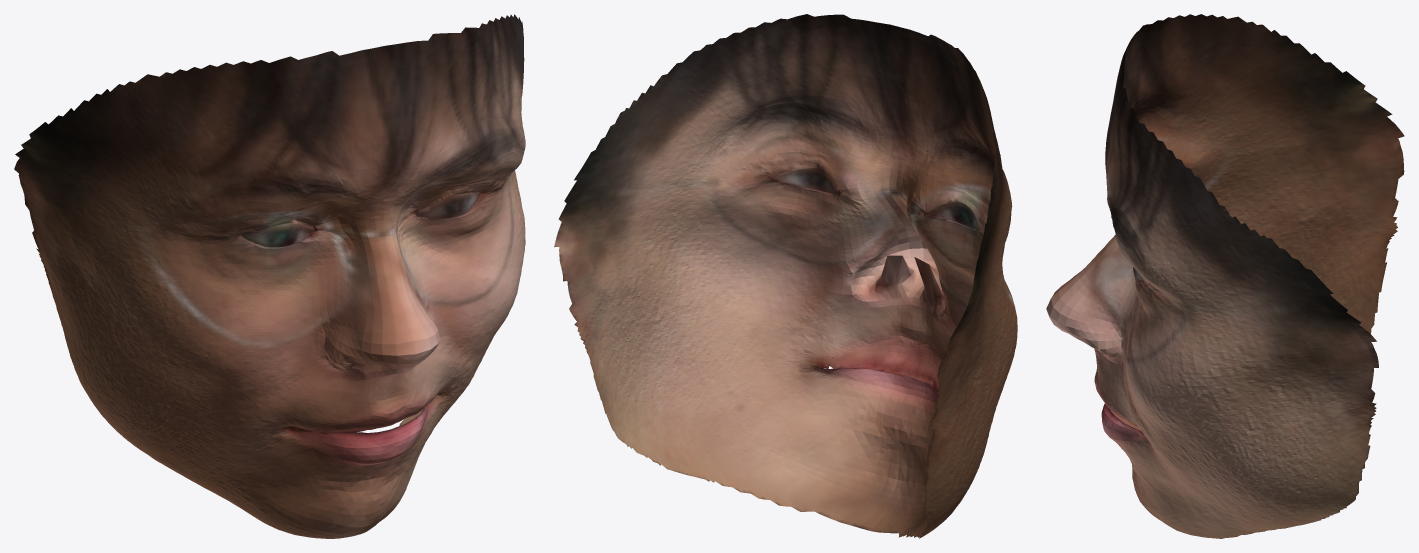
Rendered from 3DDFAV3.obj.
3 views of the same model, side by side, from view 1: azimuth 30°, elevation 25°; view 2: azimuth 150°, elevation 25°; view 3: azimuth 270°, elevation 25° (orthographic). The views are drawn at different scales.
Size of the model in its own units: 1.38 by 1.5 by 1.04.
